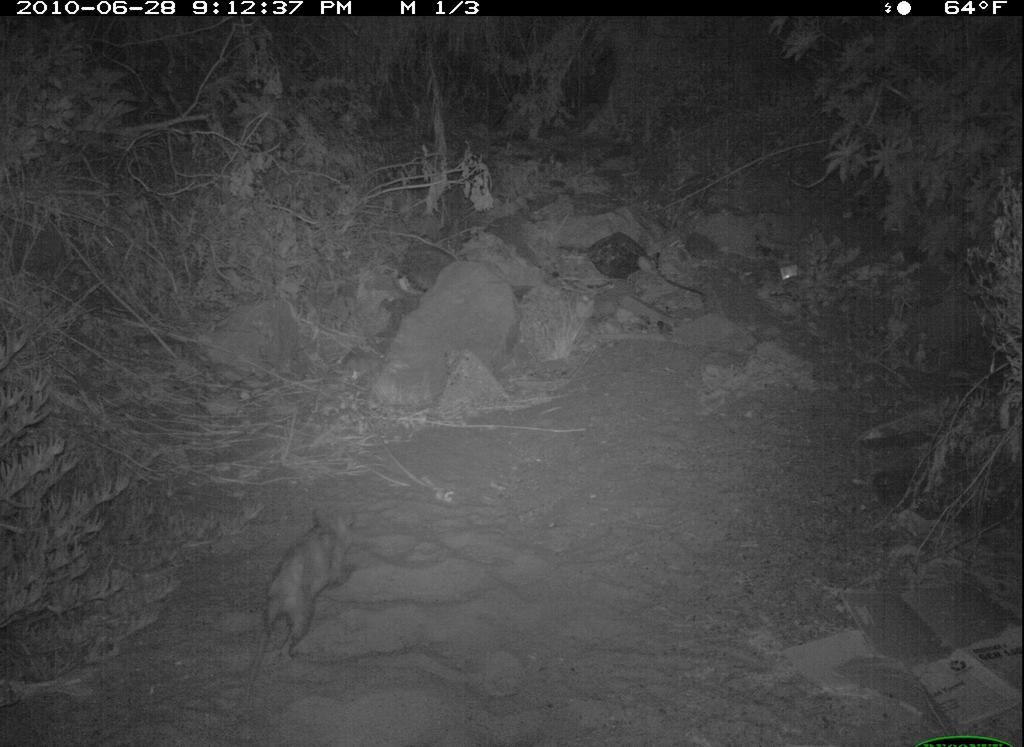opossum: (235, 504, 367, 703)
